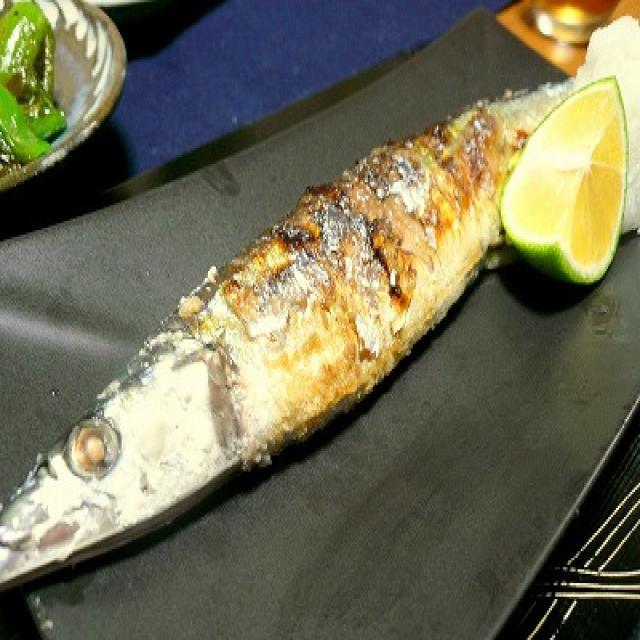熟制海鲜: (0, 7, 640, 592)
